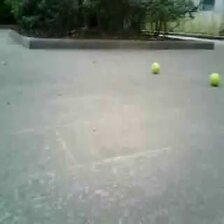tennis: (208, 73, 221, 86), (151, 61, 161, 73)
